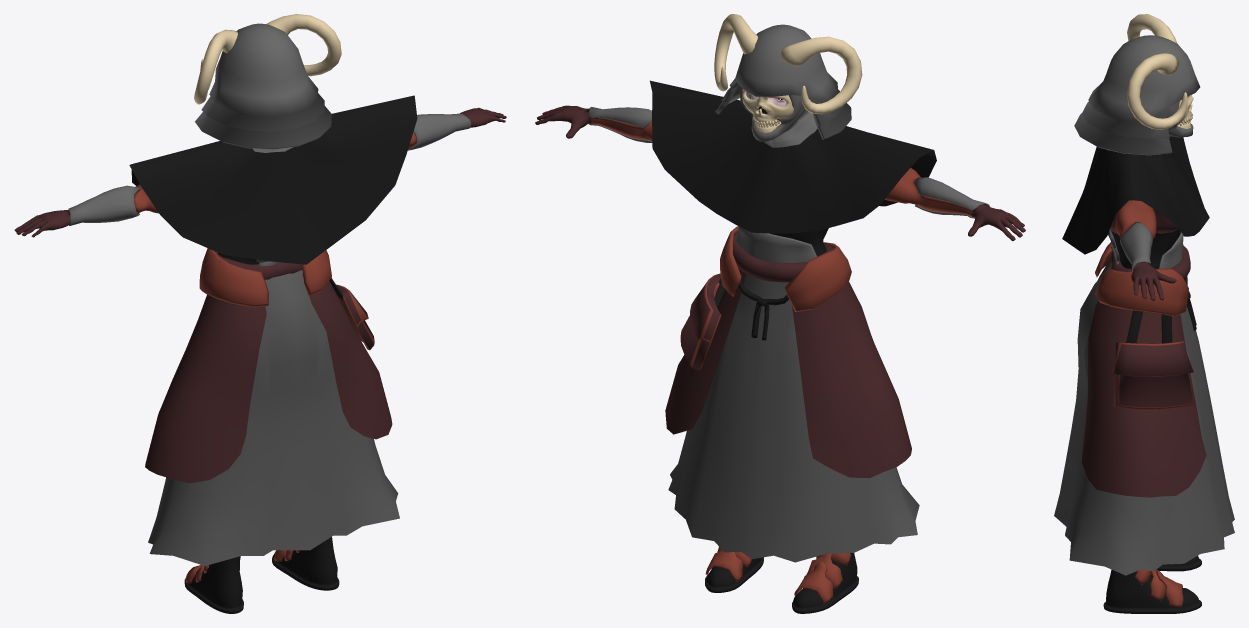
File: Player.fbx
3 views of the same model, side by side, from view 1: azimuth 30°, elevation 25°; view 2: azimuth 150°, elevation 25°; view 3: azimuth 270°, elevation 25° (orthographic).
Visible parts, largest first — view 1: Player; view 2: Player; view 3: Player.
Boxes of the visible parts, x1,y1,x2,y2 form: Player: (14,14,506,613); Player: (535,14,1025,613); Player: (1054,14,1234,613).
Size of the model in its own units: 231 by 254 by 75.96.
